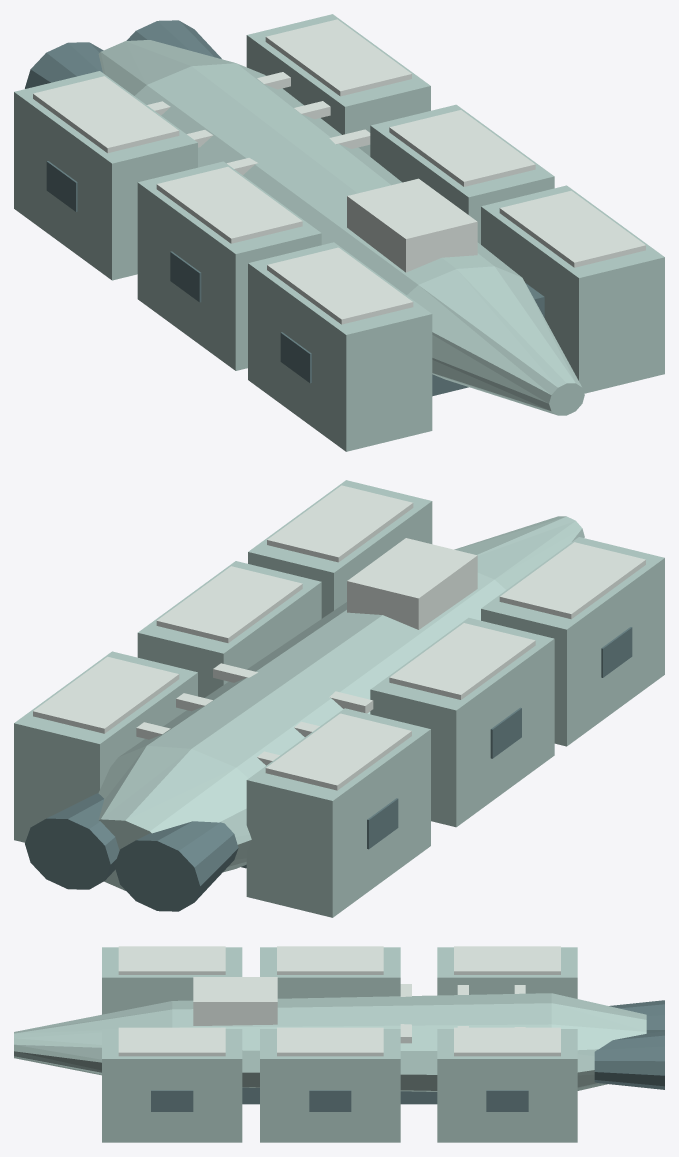
The picture shows the model from 3 angles, top to bottom: view 1: azimuth 30°, elevation 25°; view 2: azimuth 150°, elevation 25°; view 3: azimuth 270°, elevation 25°; orthographic projection. The views are drawn at different scales.
Bounding box in the file's own units: 4.25 × 1.71 × 10.37.
